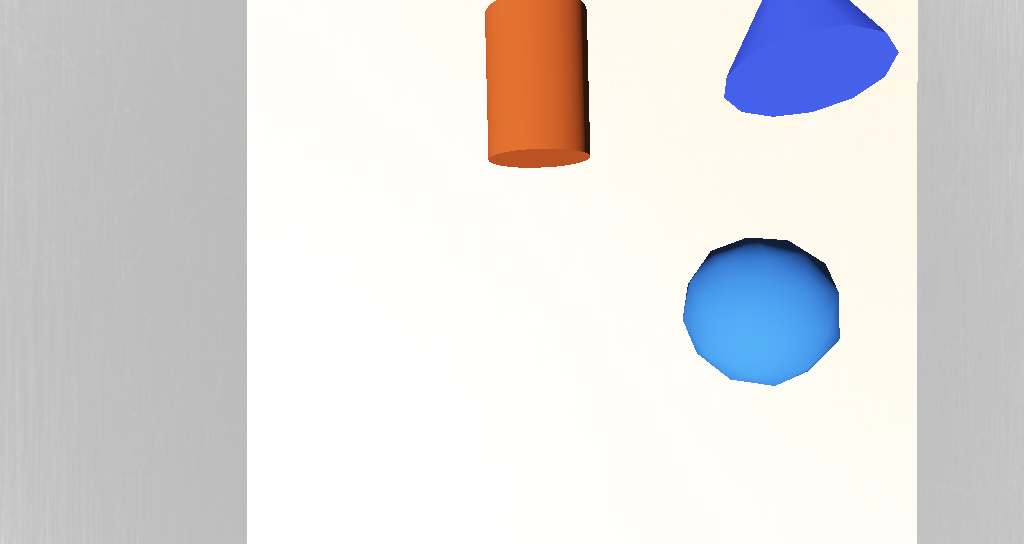cone: (461, 186, 509, 234)
cylinder: (559, 160, 627, 222)
sphere: (549, 260, 610, 303)
